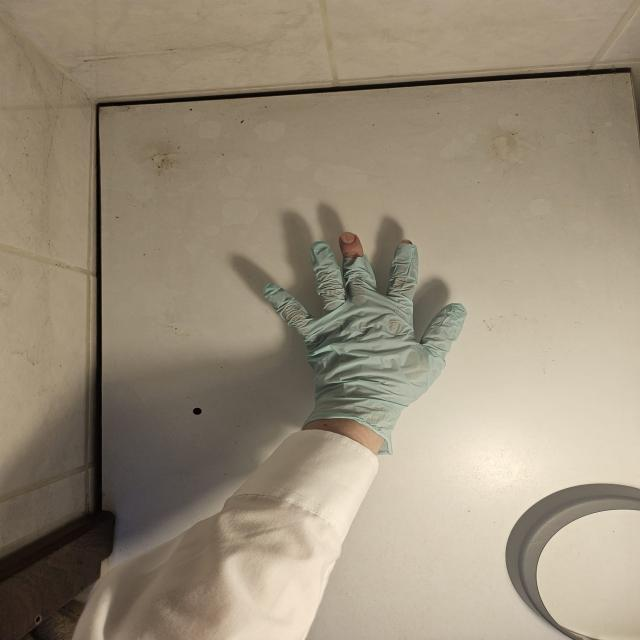gloves_damaged: (261, 228, 464, 455)
